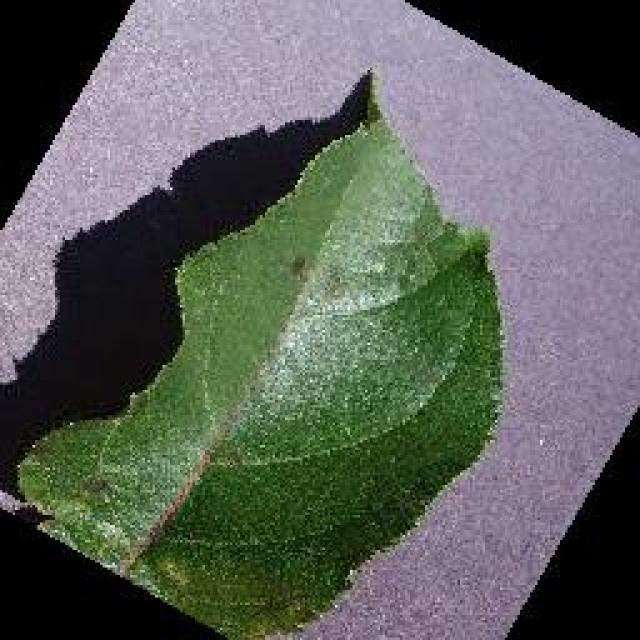apple scab disease: (2, 62, 508, 638)
